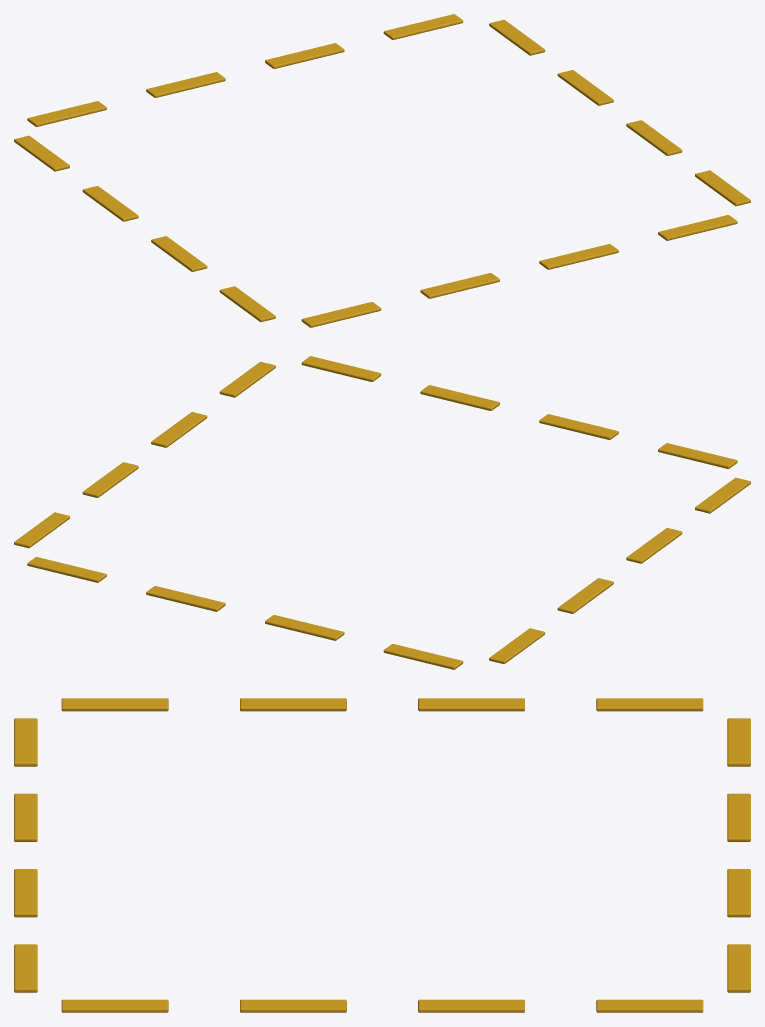
Rendered from base_floor_frame.glb.
The picture shows the model from 3 angles, top to bottom: view 1: azimuth 30°, elevation 25°; view 2: azimuth 150°, elevation 25°; view 3: azimuth 270°, elevation 25°; orthographic projection. The views are drawn at different scales.
Parts seen in each view (by area): view 1: base_floor_frame; view 2: base_floor_frame; view 3: base_floor_frame.
Part boxes in pixels (x1=…): base_floor_frame: x1=14, y1=14, x2=750, y2=327; base_floor_frame: x1=14, y1=356, x2=750, y2=669; base_floor_frame: x1=14, y1=698, x2=750, y2=1012.
Size of the model in its own units: 2.48 by 0.015 by 2.48.
Materials: 1 (1 with a texture image).
